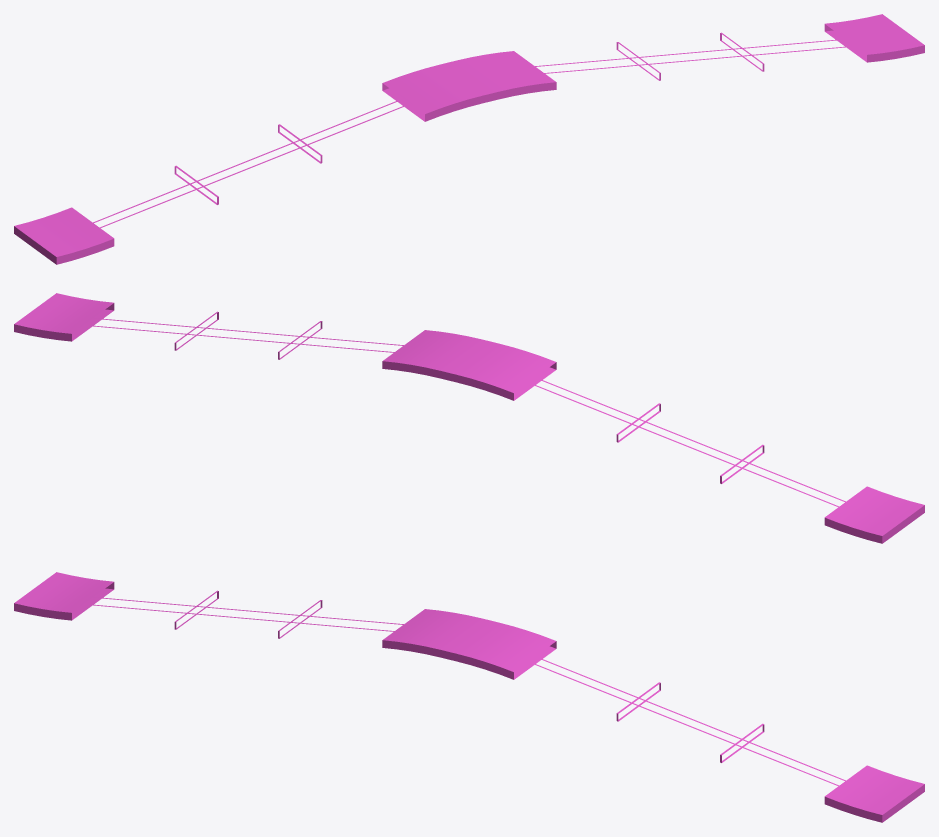
Rendered from SM_RampHill.fbx.
3 views of the same model, one above another, from view 1: azimuth 30°, elevation 25°; view 2: azimuth 150°, elevation 25°; view 3: azimuth 330°, elevation 25° (orthographic).
Visible parts, largest first — view 1: SM_RampHill; view 2: SM_RampHill; view 3: SM_RampHill.
Boxes of the visible parts, x1,y1,x2,y2 form: SM_RampHill: (14,14,924,264); SM_RampHill: (14,293,924,543); SM_RampHill: (14,572,924,822).
Bounding box in the file's own units: 11743 × 843 × 997.
